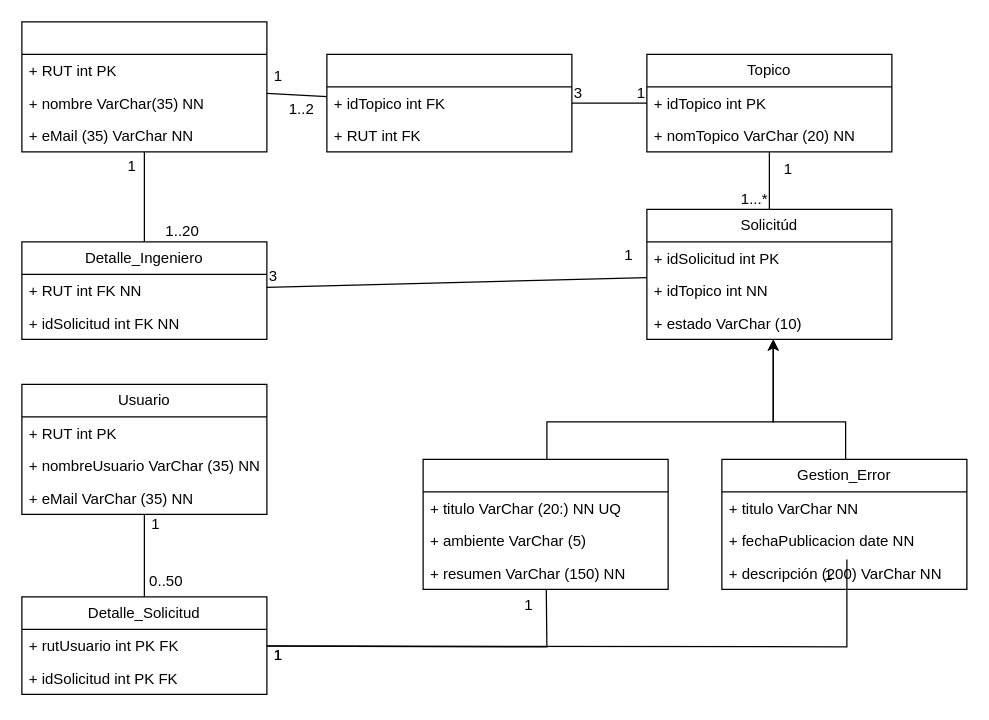
Some shapes in this 989 by 720 pixel diagram are drawn without their labels. The shapes that lost their labels are listed below. From the top down, each one's box as (x1, y1, x2, y2) in pixels, then its label:
(21, 21, 267, 152): ingeniero
(326, 53, 572, 152): Detalle_Topico
(422, 458, 668, 589): Funcionalidad
